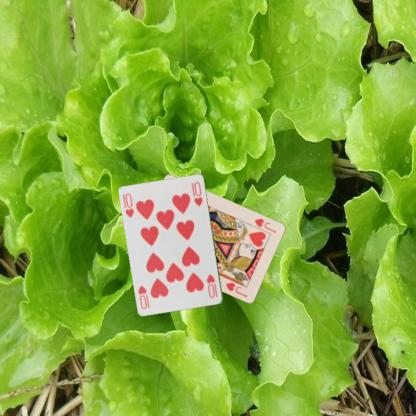10h: (204, 272, 219, 299), (123, 191, 135, 219)
Jh: (251, 216, 277, 234)
